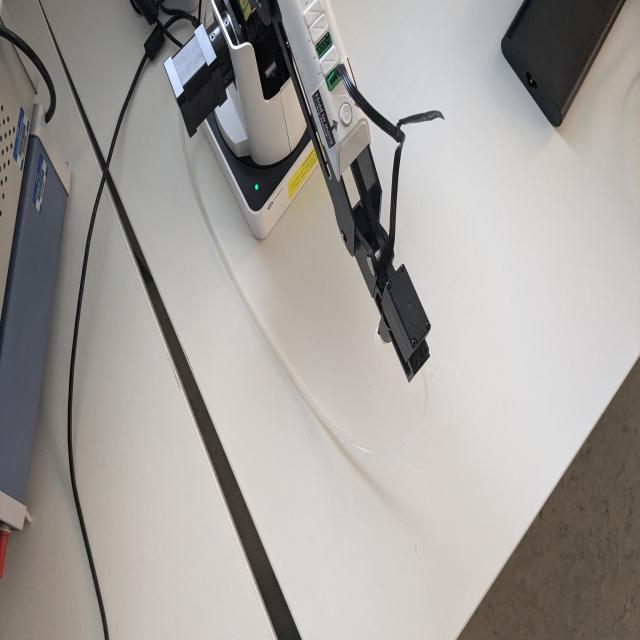Robot-end-effector-HF8z: (370, 259, 434, 389)
